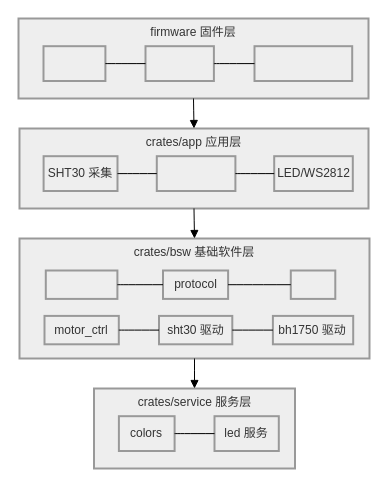
The diagram is 387 pixels wide and 486 high, and some of its shapes have lost their labels. The centre of each missing label's shape, as x and y in pixels:
BH1750 采集: (195,173)
can_proto: (81,284)
domains/ 域任务: (303,63)
main.rs: (74,63)
pid: (312,284)
shared.rs: (179,63)
